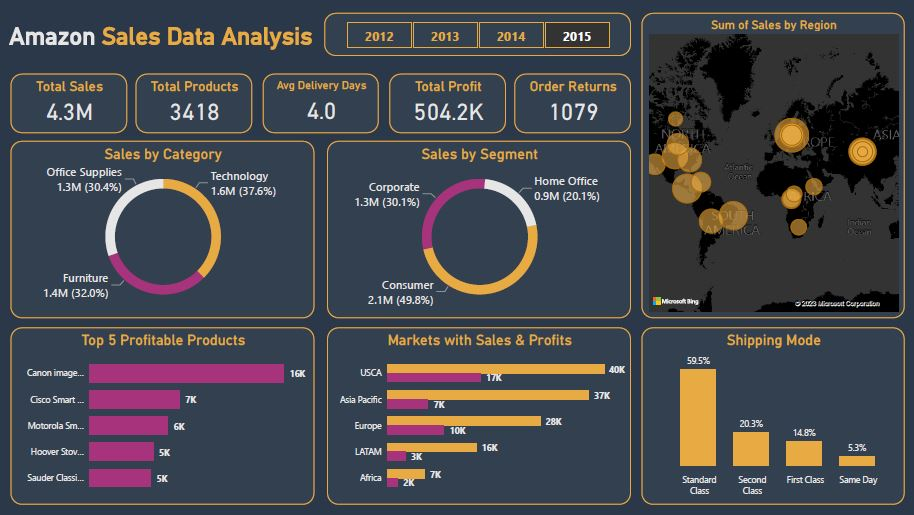

This screenshot's page, from the dashboard's own definition file:
{"tool":"powerbi","page":{"name":"Page 1","canvas":[1280,720],"ordinal":0},"visuals":[{"type":"card","title":"Total Sales","fields":{"Values":["Sum(Orders.Sales)"]},"box":[15.6,103.5,163,82.2],"z":0},{"type":"card","title":"Total Products","fields":{"Values":["Count(Orders.Product Name)"]},"box":[191.3,103.5,163,82.2],"z":1000},{"type":"card","title":"Avg Delivery Days","fields":{"Values":["Avg(Orders.Del Date)"]},"box":[368.5,103.5,163,82.2],"z":2000},{"type":"card","title":"Total Profit","fields":{"Values":["Sum(Orders.Profit)"]},"box":[545.7,103.5,163,82.2],"z":3000},{"type":"card","title":"Order Returns","fields":{"Values":["CountNonNull(Returns.Returned)"]},"box":[721.4,103.5,163,82.2],"z":4000},{"type":"donutChart","title":"Sales by Category","fields":{"Category":["Orders.Category"],"Y":["Sum(Orders.Sales)"]},"box":[15.6,197,425.2,248],"z":5000},{"type":"donutChart","title":"Sales by Segment","fields":{"Category":["Orders.Segment"],"Y":["Sum(Orders.Sales)"]},"box":[459.2,197,425.2,248],"z":6000},{"type":"clusteredColumnChart","title":"Shipping Mode","fields":{"Category":["Orders.Ship Mode"],"Y":["CountNonNull(Orders.Customer ID)"]},"box":[898.6,457.8,368.5,248],"z":7000},{"type":"clusteredBarChart","title":"Top 5 Profitable Products","fields":{"Category":["Orders.Product Name"],"Y":["Sum(Orders.Profit)"]},"box":[15.6,457.8,425.2,248],"z":8000},{"type":"map","fields":{"Category":["Orders.Region"],"Size":["Sum(Orders.Sales)"]},"box":[898.6,18.4,368.5,426.6],"z":9000},{"type":"clusteredBarChart","title":"Markets with Sales & Profits","fields":{"Category":["Orders.Market"],"Y":["Sum(Orders.Sales)","Sum(Orders.Profit)"]},"box":[459.2,457.8,425.2,248],"z":10000},{"type":"slicer","fields":{"Values":["Orders.Year"]},"box":[455,18.4,429.4,59.5],"z":11000},{"type":"textbox","box":[8.5,25.5,445,51],"z":12000}]}

Visuals, with their boxes in screenshot pixels (x1, y1, x2, y2), scaled from the page's 1280x720 canvas onto the 914x515 screenshot:
"Total Sales" card: [11, 74, 128, 133]
"Total Products" card: [137, 74, 253, 133]
"Avg Delivery Days" card: [263, 74, 380, 133]
"Total Profit" card: [390, 74, 506, 133]
"Order Returns" card: [515, 74, 632, 133]
"Sales by Category" donutChart: [11, 141, 315, 318]
"Sales by Segment" donutChart: [328, 141, 632, 318]
"Shipping Mode" clusteredColumnChart: [642, 327, 905, 505]
"Top 5 Profitable Products" clusteredBarChart: [11, 327, 315, 505]
map - Orders.Region x Sum(Orders.Sales): [642, 13, 905, 318]
"Markets with Sales & Profits" clusteredBarChart: [328, 327, 632, 505]
slicer - Orders.Year: [325, 13, 632, 56]
textbox: [6, 18, 324, 55]
